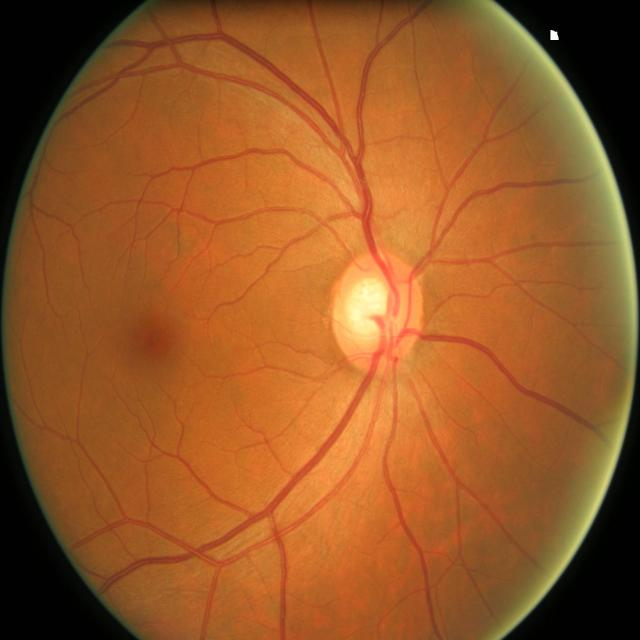OC: (344, 278, 398, 342)
OD: (330, 251, 423, 368)
